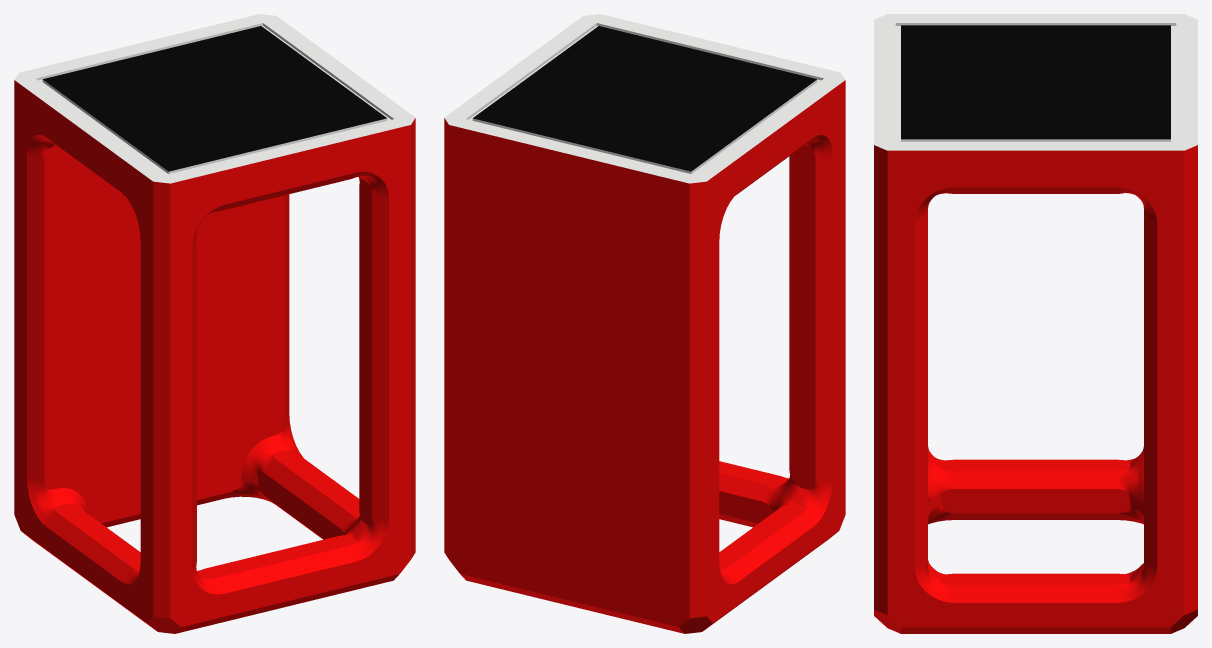
Rendered from long_rectangle.glb.
3 views of the same model, side by side, from view 1: azimuth 30°, elevation 25°; view 2: azimuth 150°, elevation 25°; view 3: azimuth 270°, elevation 25° (orthographic). The views are drawn at different scales.
Parts seen in each view (by area): view 1: g Body1; view 2: g Body1; view 3: g Body1.
Boxes of the visible parts, box(x1,y1,x2,y2) form: g Body1: box(14, 14, 415, 633); g Body1: box(444, 14, 845, 633); g Body1: box(874, 14, 1197, 633).
Bounding box in the file's own units: 60 × 100 × 60.
